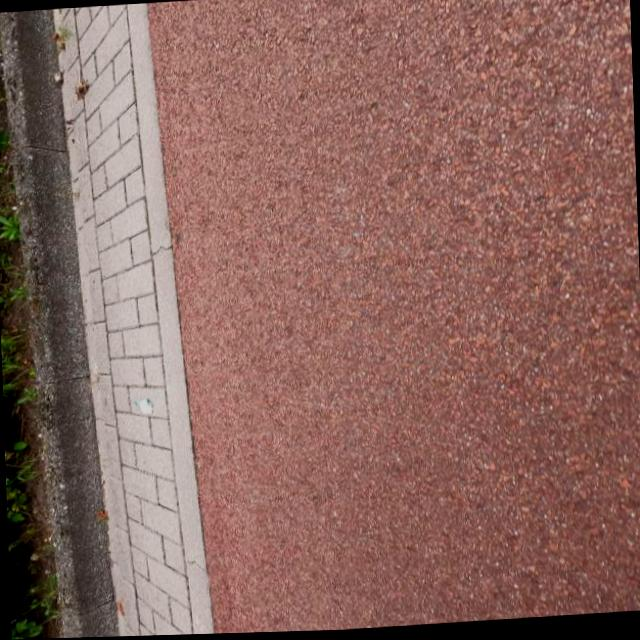Plastic: (132, 397, 154, 414)
